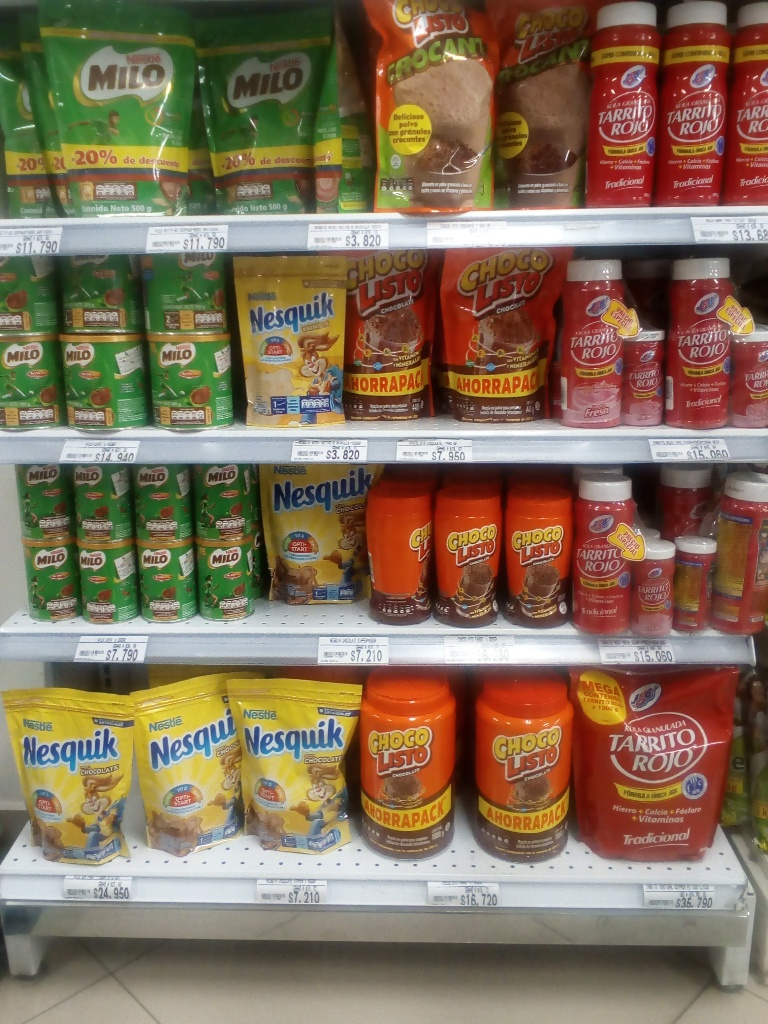COL0170103DYP44000: (440, 247, 576, 426)
COL0170103TRR00100: (359, 663, 469, 869)
COL0170203LAT20000: (14, 466, 72, 544)
COL0170203LAT40000: (3, 257, 59, 335)
COL0170303DYP20000: (258, 458, 375, 614)
